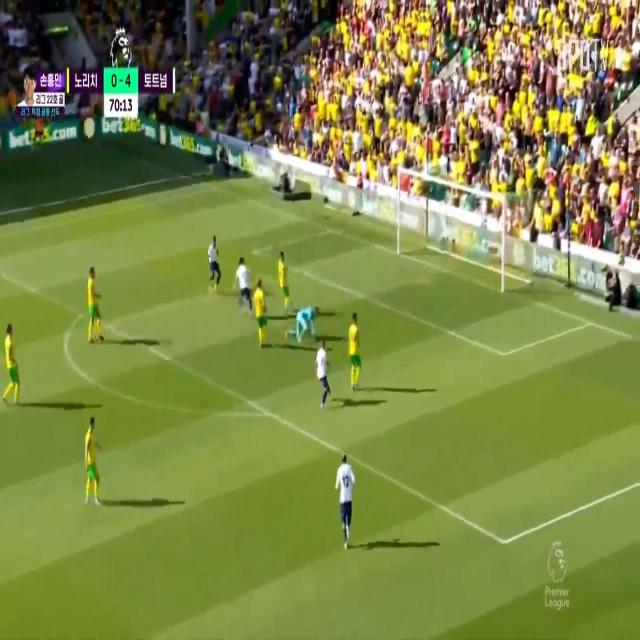player: (336, 446, 358, 542), (0, 315, 22, 407), (81, 409, 101, 499), (88, 263, 106, 345), (272, 245, 296, 305), (250, 273, 268, 347), (230, 252, 252, 308), (347, 310, 363, 384), (208, 228, 224, 298), (318, 340, 335, 404)
